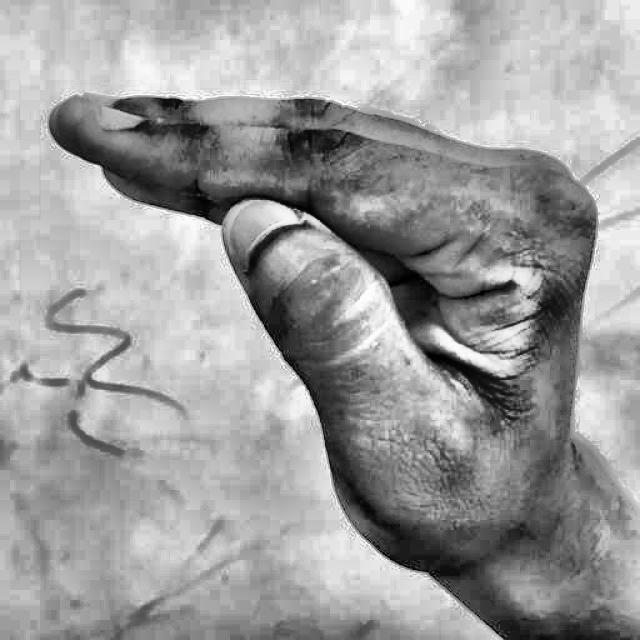Ga: (36, 60, 614, 597)
